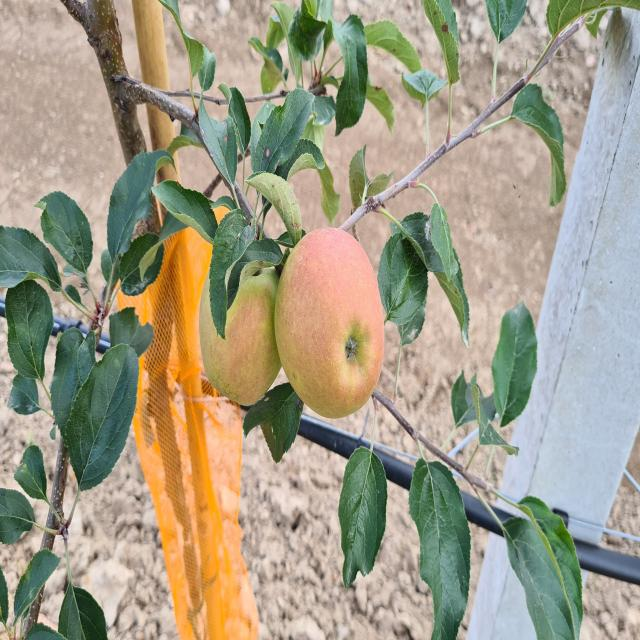Apple: (274, 229, 384, 418), (199, 267, 281, 404)
